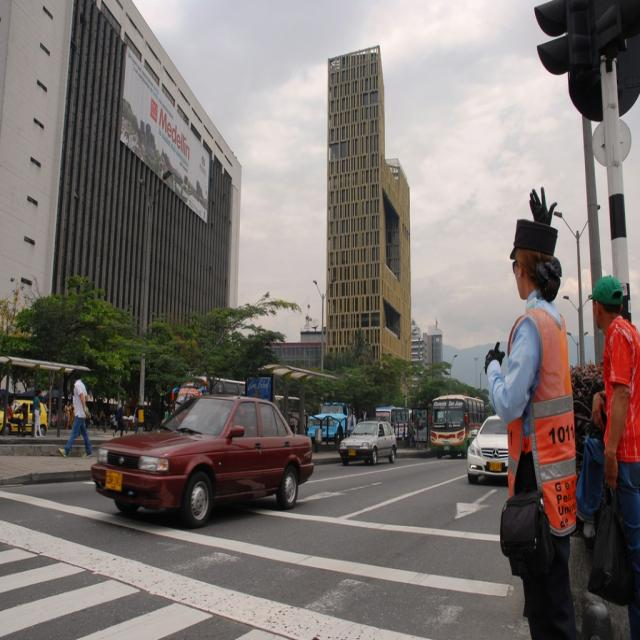car: (86, 376, 316, 528), (338, 418, 397, 469)
